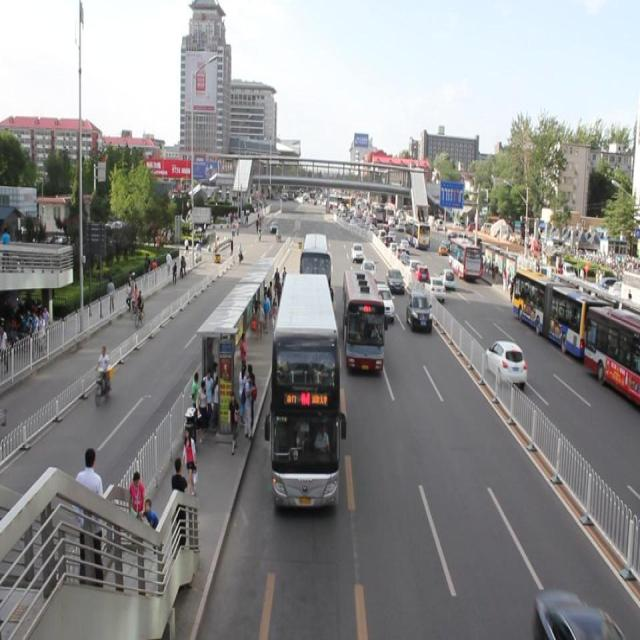car: (524, 575, 630, 640), (404, 290, 435, 335), (370, 278, 396, 324), (384, 264, 405, 293), (356, 255, 377, 277), (347, 239, 366, 262)
van: (264, 271, 349, 522), (336, 268, 389, 380), (295, 229, 336, 315)
